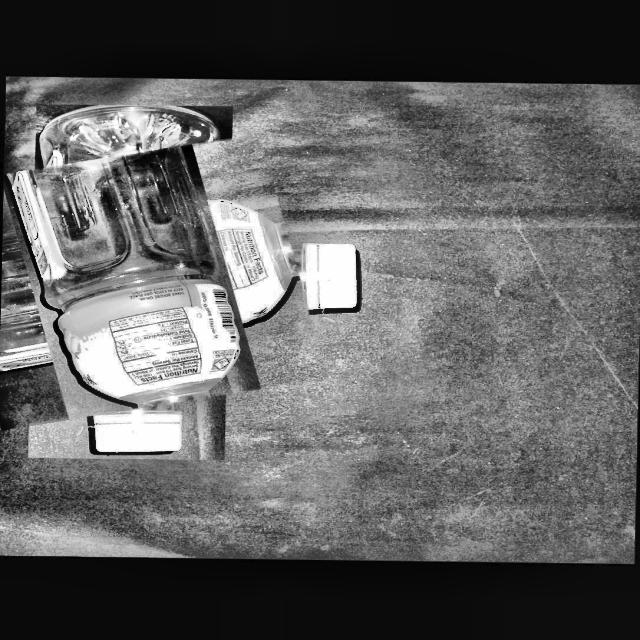Plastic-Bottle: (0, 142, 317, 422)
